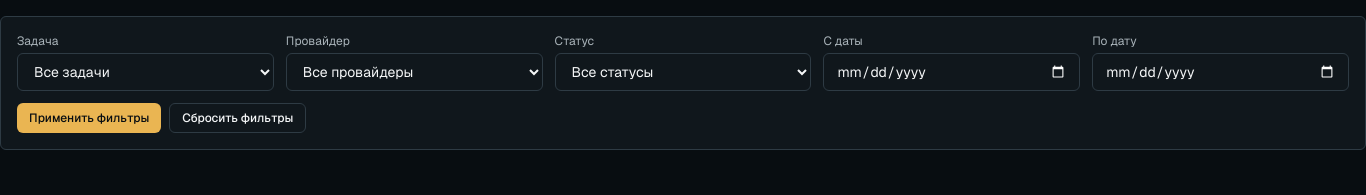
it: HistoryFilters › rejects a reversed date range and clears all filters
The image size is (1366, 195).
Type "2026-07-21" into the date field labelled "С даты" at (952, 72), box [823,53,1080,91]
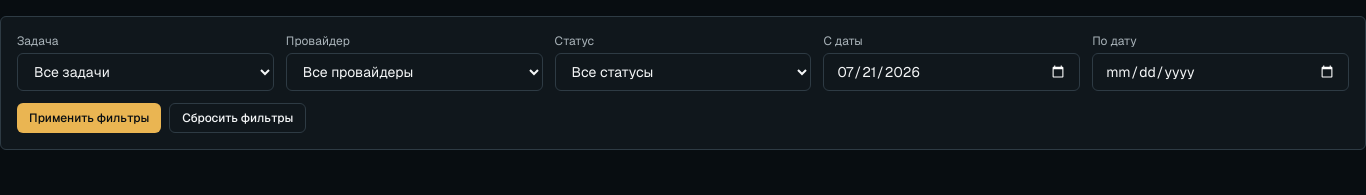
Type "2026-07-20" into the date field labelled "По дату" at (1221, 72), box [1092,53,1349,91]
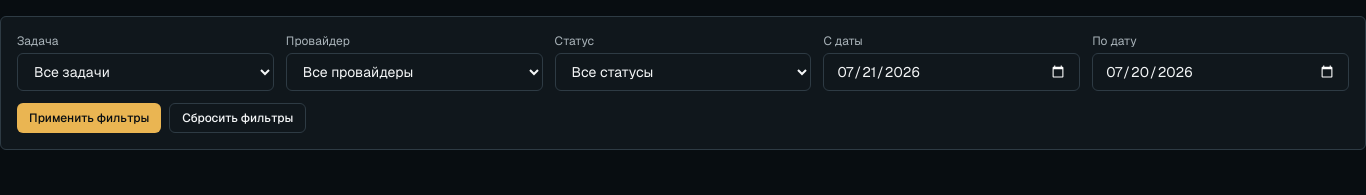
Click the button "Применить фильтры" at (89, 118), box [17,103,161,133]
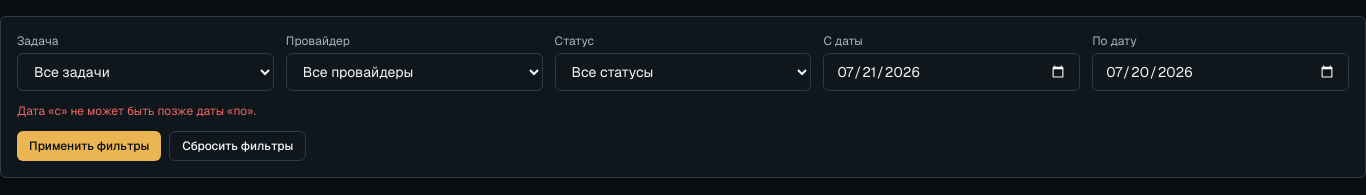
Expected: the message shows "Дата «с» не может быть позже даты «по»", [17,103,256,119]
Click the button "Сбросить фильтры" at (238, 146), box [169,131,306,161]
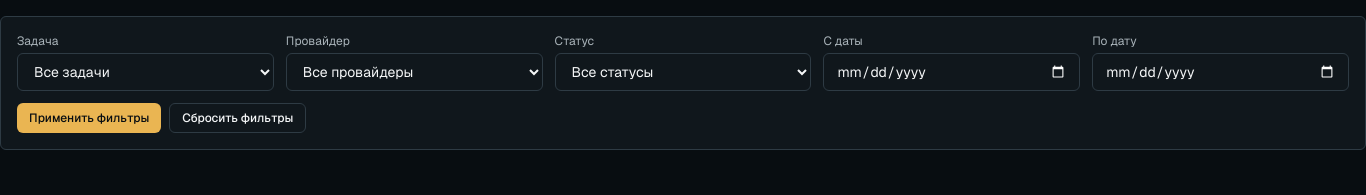
Expected: the date field labelled "С даты" is empty, [823,53,1080,91]
Expected: the date field labelled "По дату" is empty, [1092,53,1349,91]
